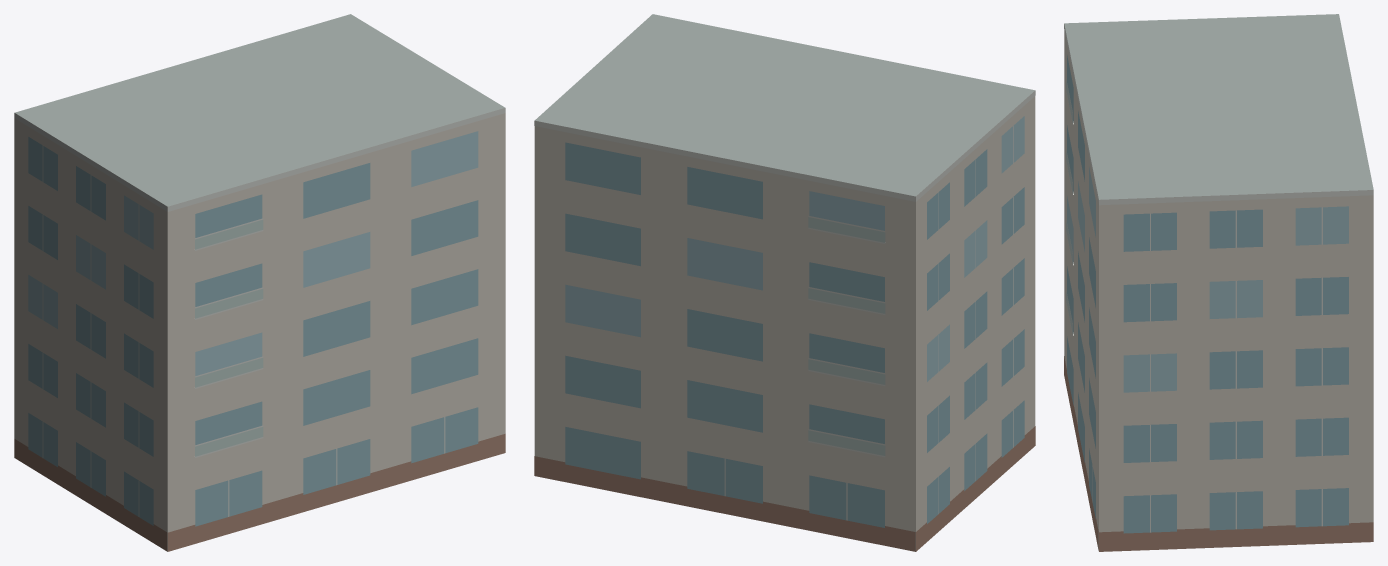
Rendered from survey-upis-32963158.glb.
3 views of the same model, side by side, from view 1: azimuth 30°, elevation 25°; view 2: azimuth 150°, elevation 25°; view 3: azimuth 270°, elevation 25° (orthographic). The views are drawn at different scales.
Visible parts, largest first — view 1: survey-upis-32963158.tmp; view 2: survey-upis-32963158.tmp; view 3: survey-upis-32963158.tmp.
Part boxes in pixels (bbox=[...]): survey-upis-32963158.tmp: bbox=[14, 14, 505, 551]; survey-upis-32963158.tmp: bbox=[534, 14, 1035, 551]; survey-upis-32963158.tmp: bbox=[1064, 14, 1373, 551].
Size of the model in its own units: 18.01 by 15.9 by 12.68.
